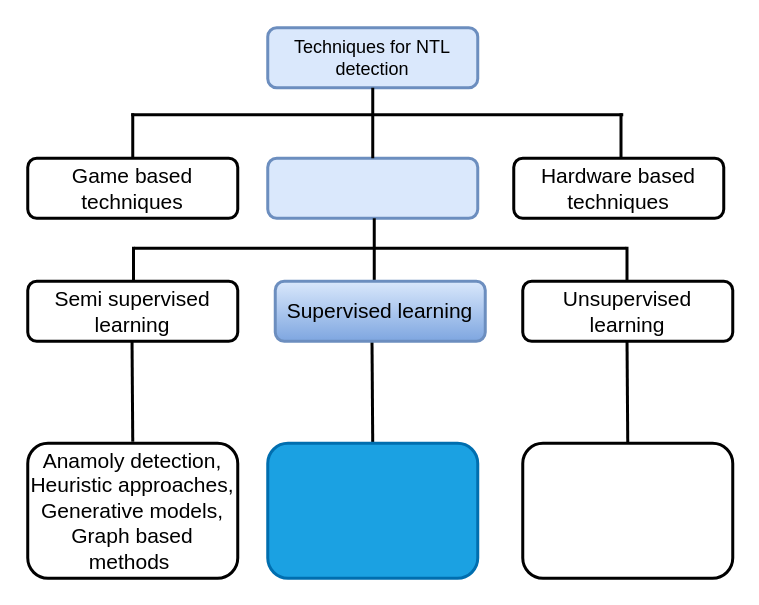
Some shapes in this 759 by 605 pixel diagram are drawn without their labels. The shapes that lost their labels are listed below. From the top down, each one's centre as x and y in pixels, then its label:
At point (372, 187): "Data driven techiques".
At point (372, 510): "MLP, SVM, Decision tree, Gradient boosting classifiers, LR, RF, CNN, LSTM".
At point (627, 510): "Association rule mining, Clustering methods, Regression models".
